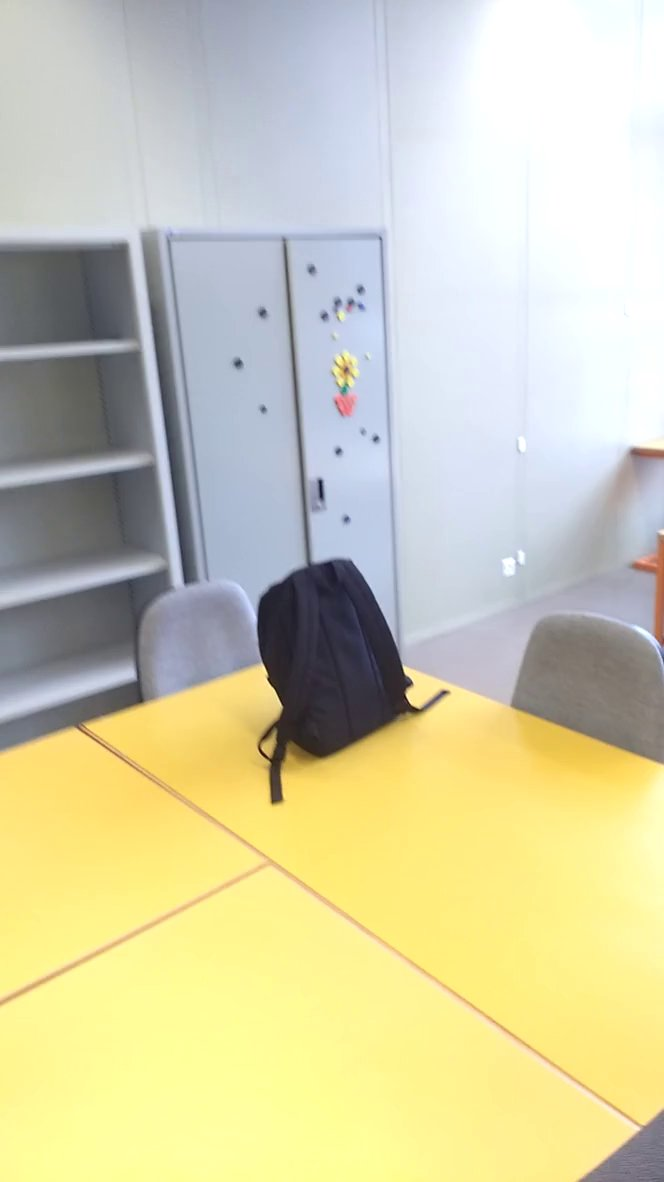bag: (251, 546, 455, 812)
chair: (501, 600, 664, 783), (126, 564, 280, 717)
